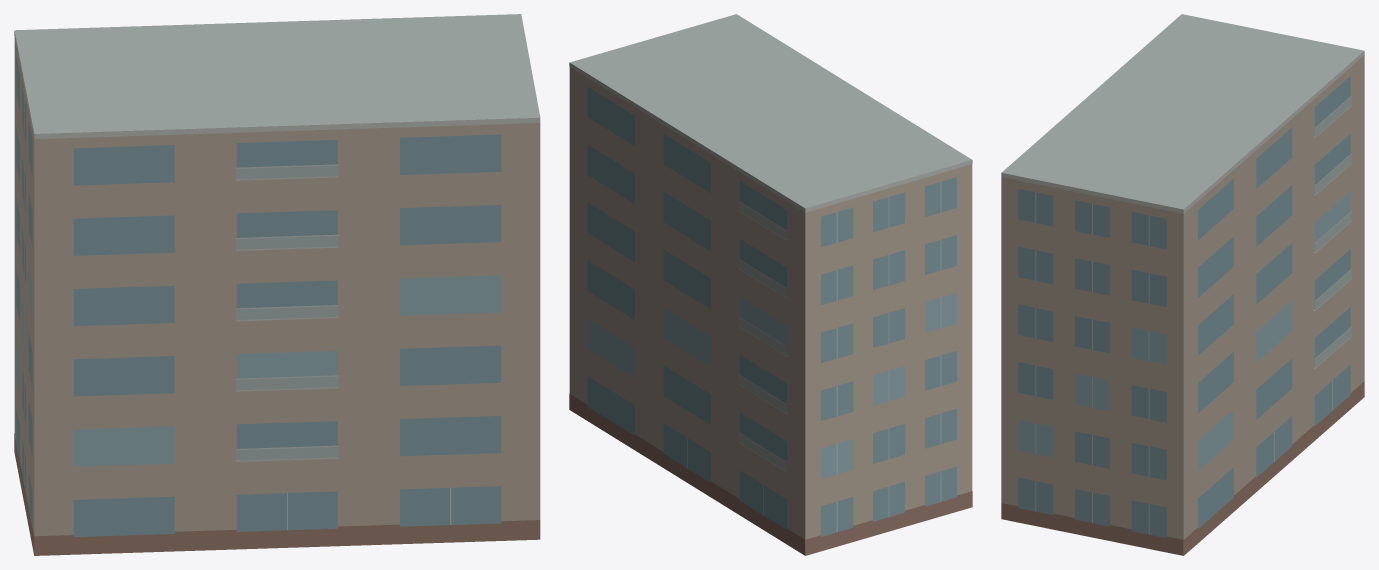
The model's file is survey-upis-32523960.glb.
3 views of the same model, side by side, from view 1: azimuth 30°, elevation 25°; view 2: azimuth 150°, elevation 25°; view 3: azimuth 270°, elevation 25° (orthographic). The views are drawn at different scales.
Visible parts, largest first — view 1: survey-upis-32523960.tmp; view 2: survey-upis-32523960.tmp; view 3: survey-upis-32523960.tmp.
Boxes of the visible parts, x1=… form: survey-upis-32523960.tmp: x1=14, y1=14, x2=540, y2=555; survey-upis-32523960.tmp: x1=569, y1=14, x2=972, y2=555; survey-upis-32523960.tmp: x1=1001, y1=14, x2=1364, y2=555.
Bounding box in the file's own units: 23.86 × 19.7 × 18.73.
